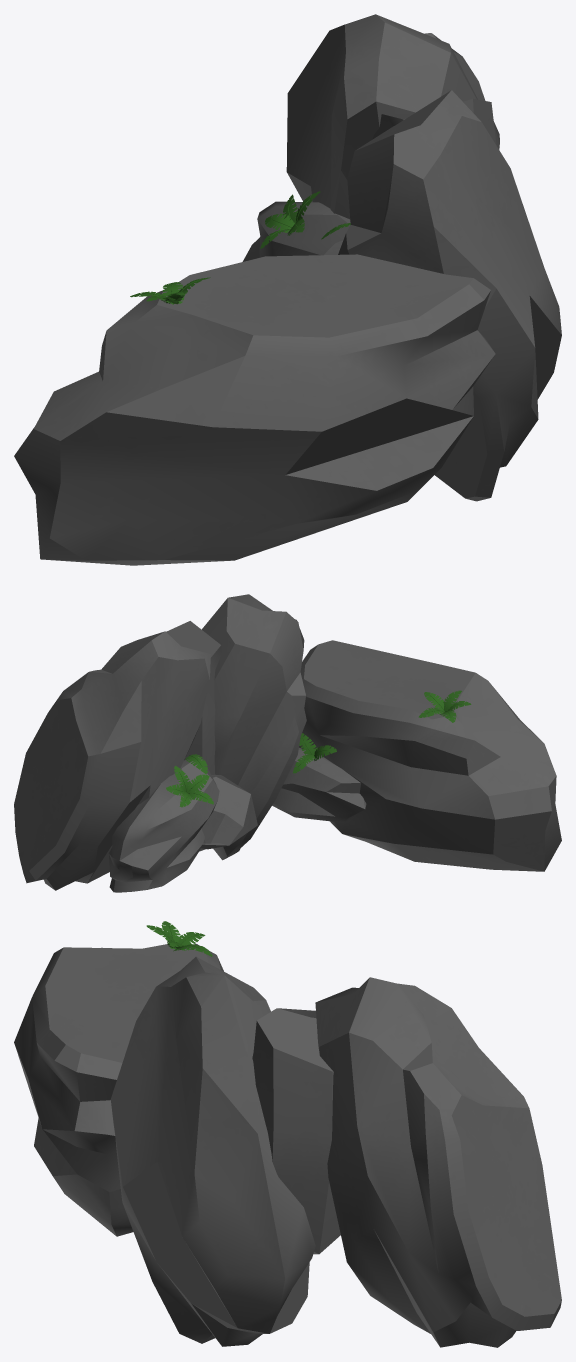
File: BackgroundRocksNEW.fbx
The picture shows the model from 3 angles, top to bottom: view 1: azimuth 30°, elevation 25°; view 2: azimuth 150°, elevation 25°; view 3: azimuth 270°, elevation 25°; orthographic projection. The views are drawn at different scales.
Parts seen in each view (by area): view 1: Cube.056, Cube.003, Cube.008, Cube.006, Plane.003, Cube.001, Plane.008; view 2: Cube.056, Cube.008, Cube.003, Cube.006, Cube.017, Cube.005, Cube.001, Plane.003, Plane.008, Plane.015; view 3: Cube.008, Cube.003, Cube.056, Cube.001, Plane.008.
Part boxes in pixels (<box>): Cube.056: <box>14,254,495,565</box>; Cube.003: <box>338,90,561,501</box>; Cube.008: <box>286,14,499,219</box>; Cube.006: <box>242,201,350,261</box>; Plane.003: <box>260,191,320,248</box>; Cube.001: <box>372,98,496,145</box>; Plane.008: <box>130,277,210,304</box>; Cube.056: <box>299,640,561,871</box>; Cube.008: <box>14,631,210,890</box>; Cube.003: <box>199,594,306,860</box>; Cube.006: <box>108,757,219,892</box>; Cube.017: <box>272,747,366,822</box>; Cube.005: <box>201,774,257,849</box>; Cube.001: <box>166,621,221,774</box>; Plane.003: <box>166,765,213,807</box>; Plane.008: <box>418,690,471,722</box>; Plane.015: <box>293,733,336,773</box>; Cube.008: <box>315,977,561,1347</box>; Cube.003: <box>110,956,315,1346</box>; Cube.056: <box>14,944,223,1236</box>; Cube.001: <box>252,1008,340,1254</box>; Plane.008: <box>146,921,212,956</box>.
Bounding box in the file's own units: 11480 × 6930 × 9362.
Materials: 2 (1 with a texture image).
